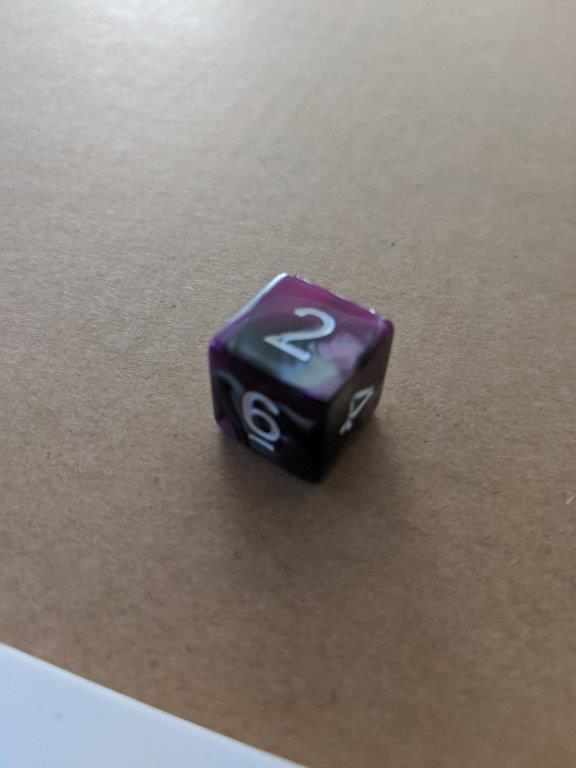d6-2: (206, 274, 394, 483)
